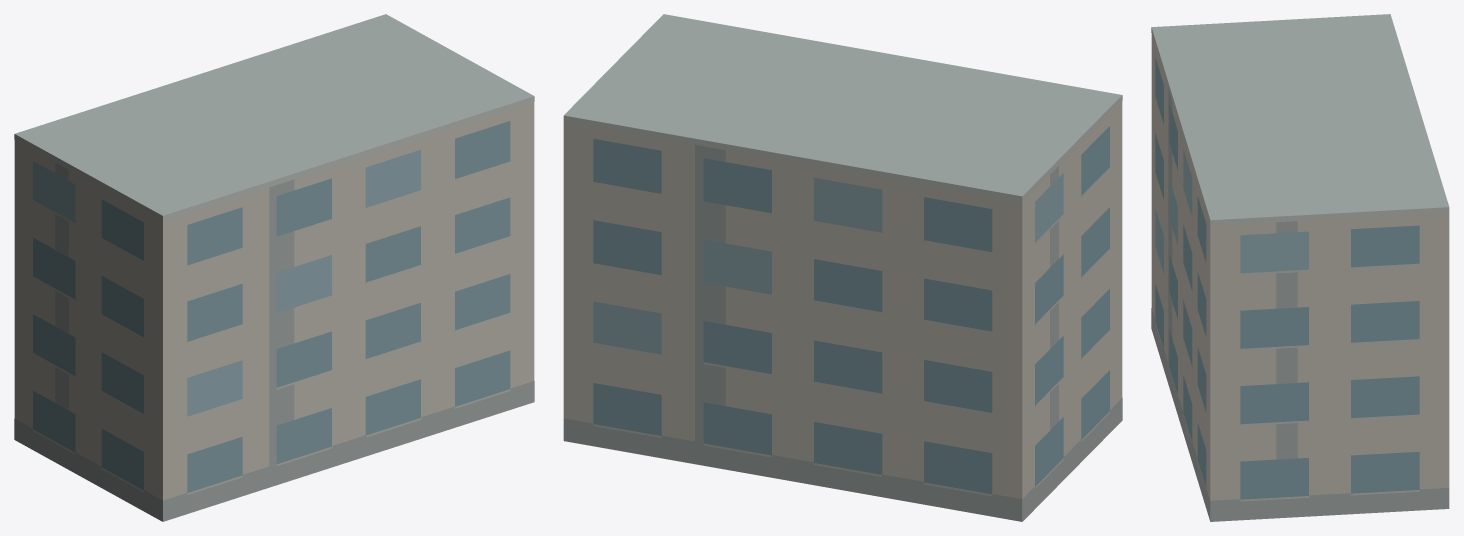
File: residential-4c93c393-48b5-426f-adeb-88f63216c332.glb
3 renders of one model, left to right at view 1: azimuth 30°, elevation 25°; view 2: azimuth 150°, elevation 25°; view 3: azimuth 270°, elevation 25°, orthographic. The views are drawn at different scales.
Visible parts, largest first — view 1: residential-4c93c393-48b5-426f-adeb-88f63216c332.tmp; view 2: residential-4c93c393-48b5-426f-adeb-88f63216c332.tmp; view 3: residential-4c93c393-48b5-426f-adeb-88f63216c332.tmp.
Boxes of the visible parts, x1=… form: residential-4c93c393-48b5-426f-adeb-88f63216c332.tmp: x1=14, y1=14, x2=534, y2=521; residential-4c93c393-48b5-426f-adeb-88f63216c332.tmp: x1=563, y1=14, x2=1122, y2=521; residential-4c93c393-48b5-426f-adeb-88f63216c332.tmp: x1=1151, y1=14, x2=1449, y2=521.
Bounding box in the file's own units: 18.92 × 12.9 × 11.56.
